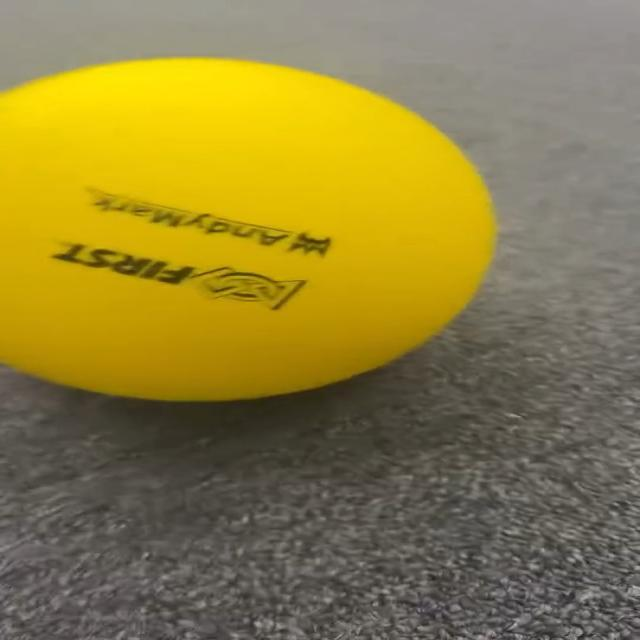Fuels: (2, 59, 494, 396)
